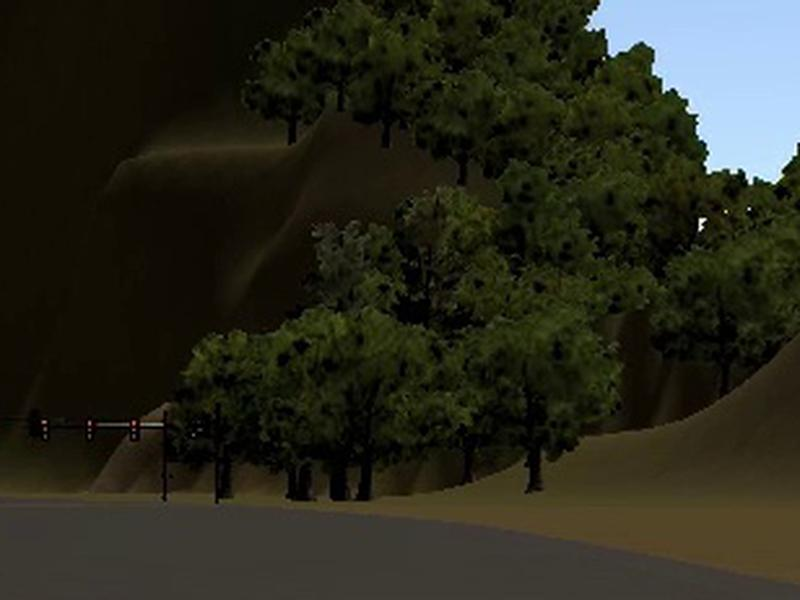Red: (129, 417, 139, 442), (85, 418, 95, 441)
